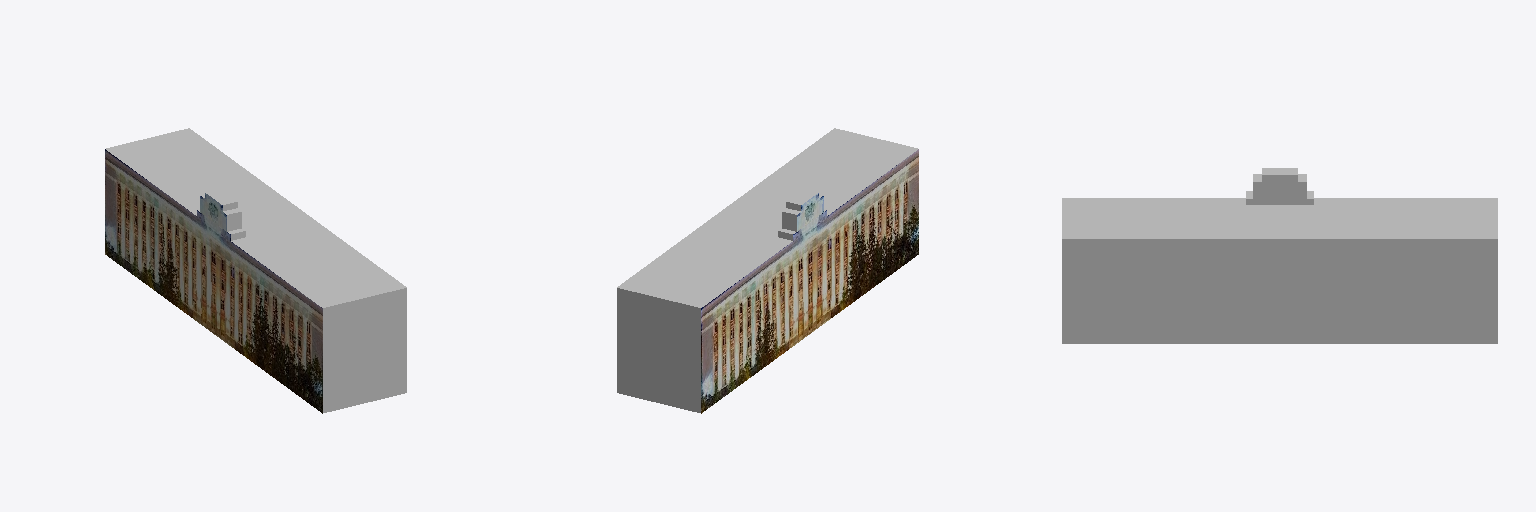
The picture shows the model from 3 angles: view 1: azimuth 30°, elevation 25°; view 2: azimuth 150°, elevation 25°; view 3: azimuth 270°, elevation 25°; orthographic projection.
Parts seen in each view (by area): view 1: govt_Cube.002; view 2: govt_Cube.002; view 3: govt_Cube.002.
Part boxes in pixels (x1,y1,x2,y2): govt_Cube.002: (105,128,406,413); govt_Cube.002: (617,128,918,413); govt_Cube.002: (1062,168,1497,343).
Bounding box in the file's own units: 3.01 × 4.59 × 13.41.
2 materials, 1 textured.